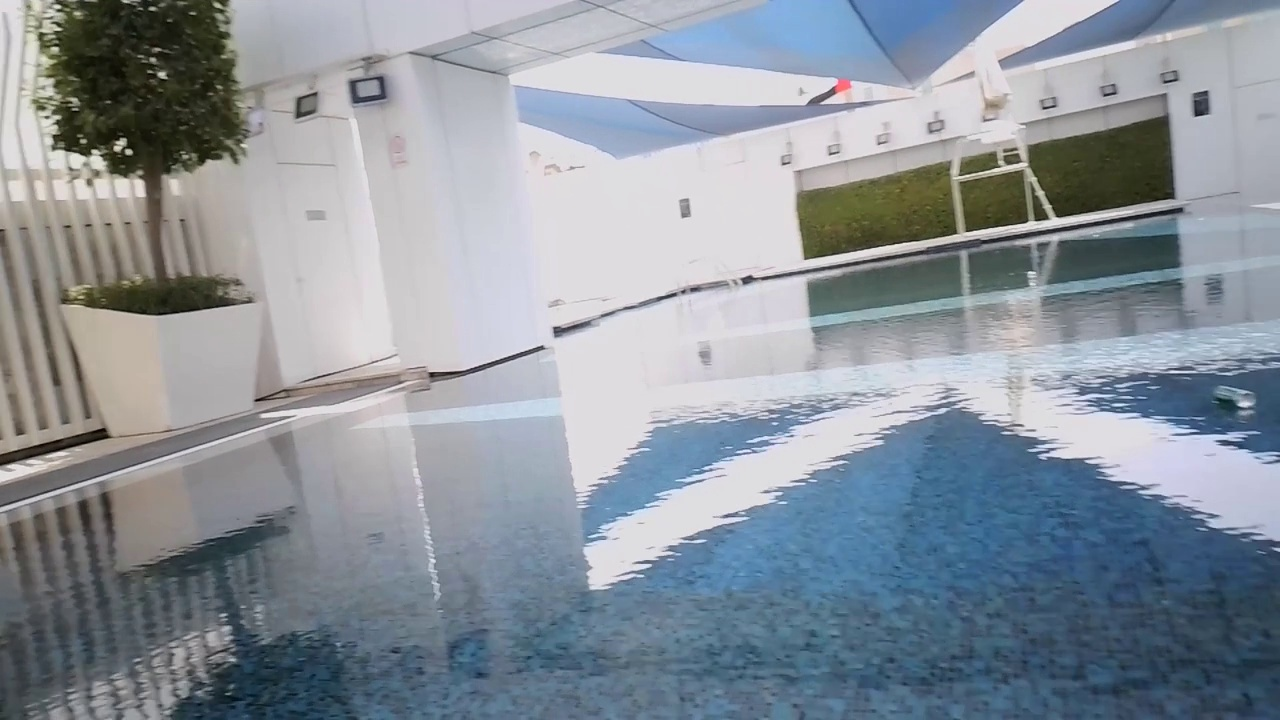debris: (1210, 375, 1260, 415), (1026, 267, 1036, 279)
